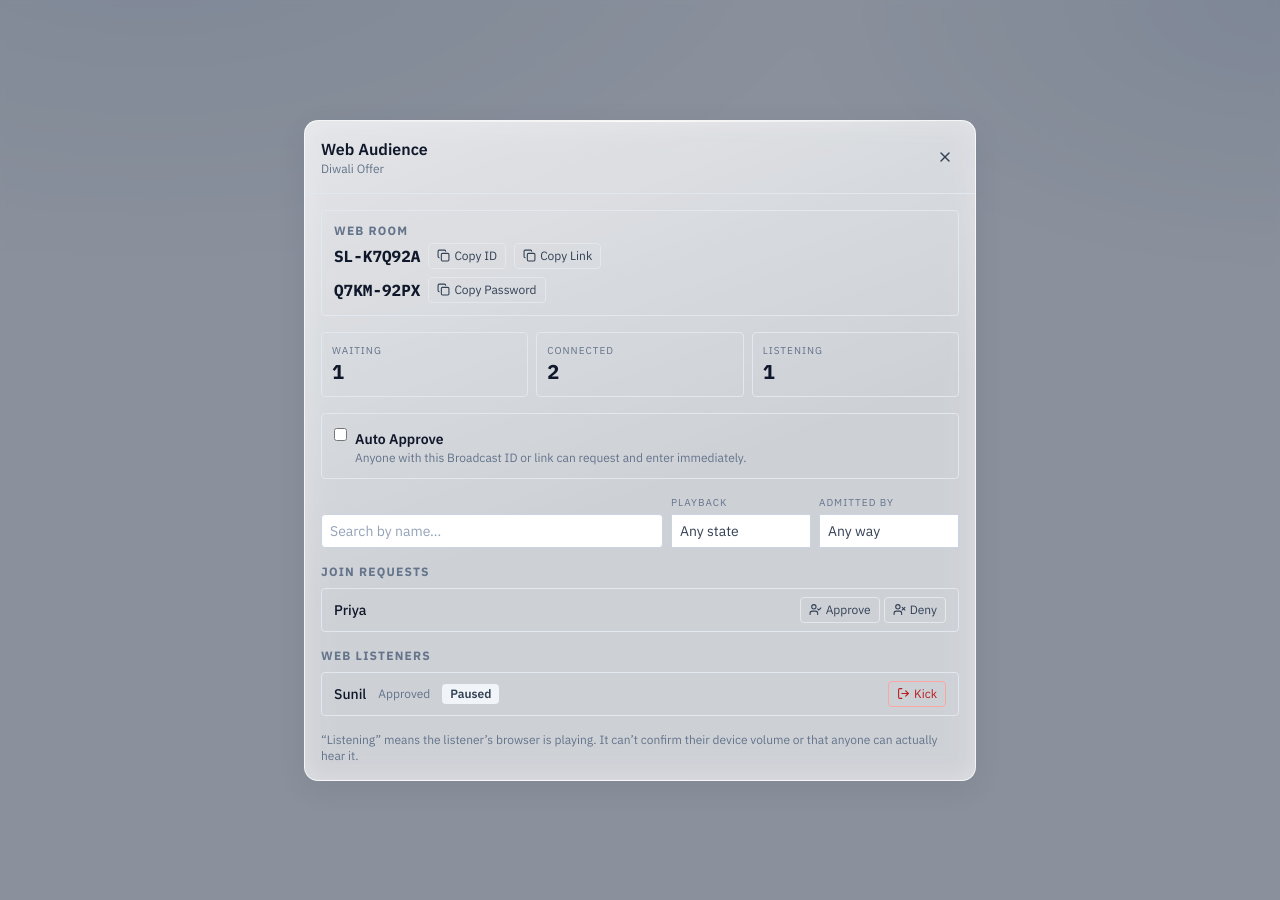
Test case: a join request does not vanish when filtering by playback state
This screenshot has width=1280, height=900.
Click the button with test id "supervised-audience-state".
click(741, 530)  # box x1=671 y1=514 x2=811 y2=548
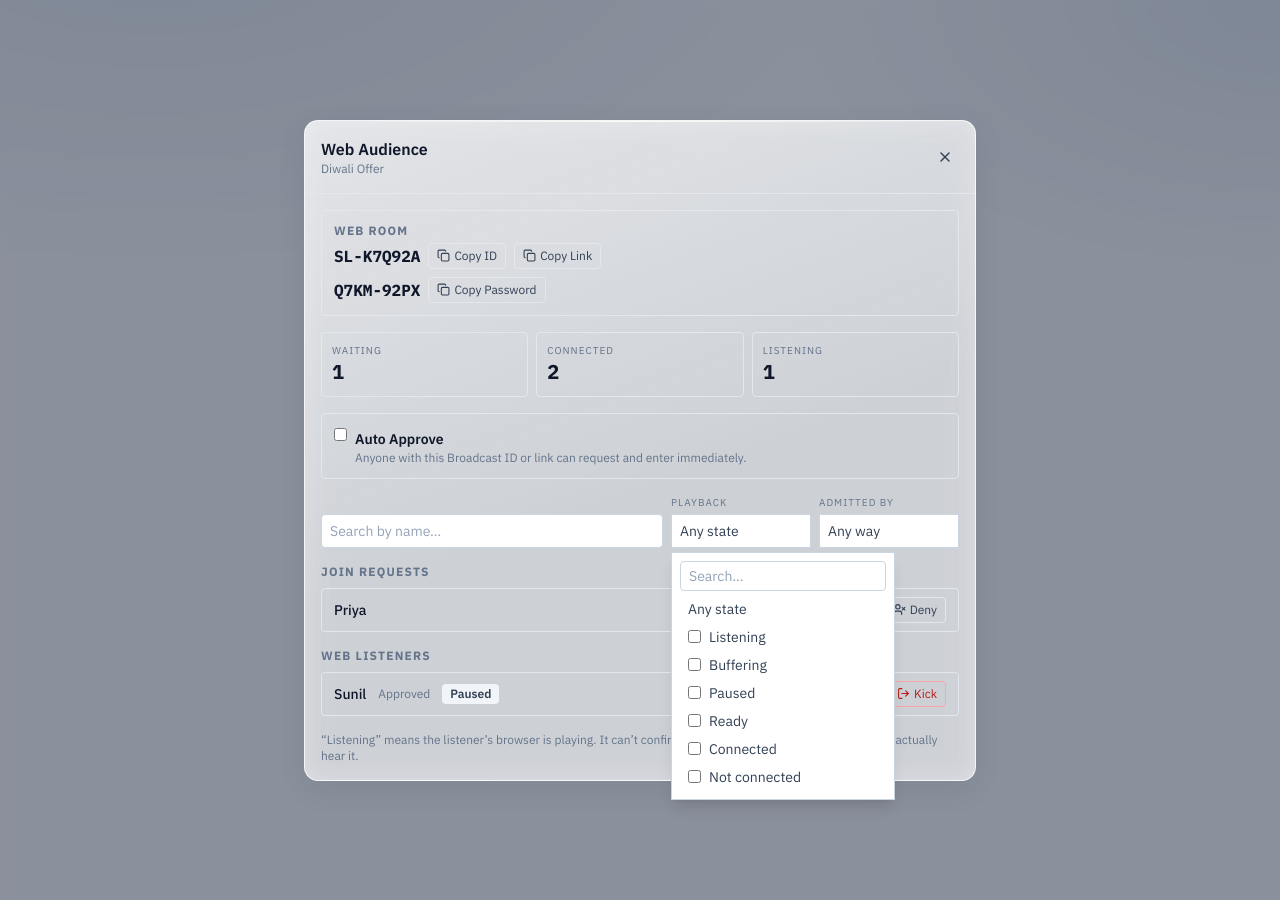
Click the checkbox with test id "supervised-audience-state-option-LISTENING".
click(694, 636)  # box x1=688 y1=630 x2=701 y2=643
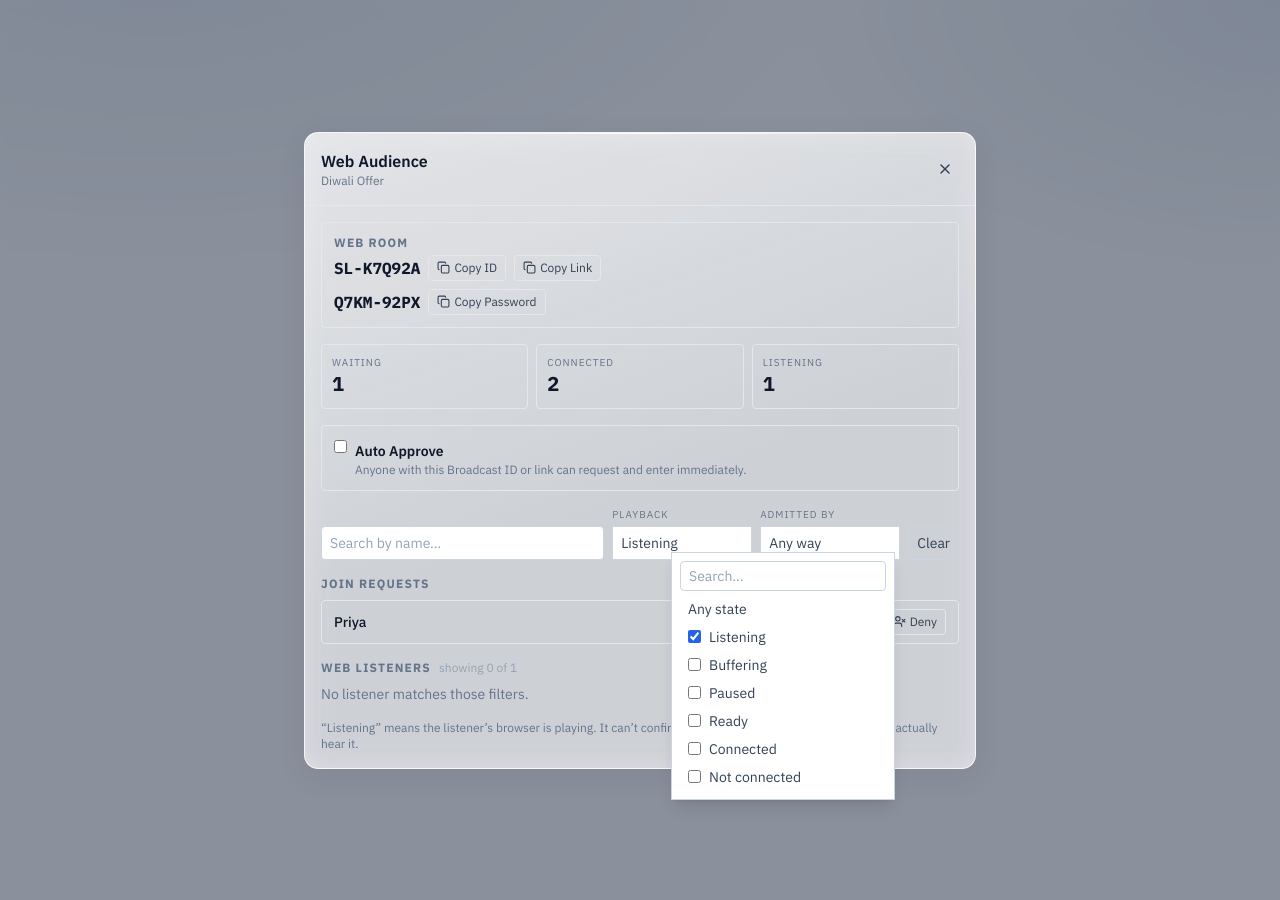
Check: the list item with test id "supervised-waiting-1" is shown, box x1=322 y1=600 x2=958 y2=642
Check: the list item with test id "supervised-listener-3" is gone
